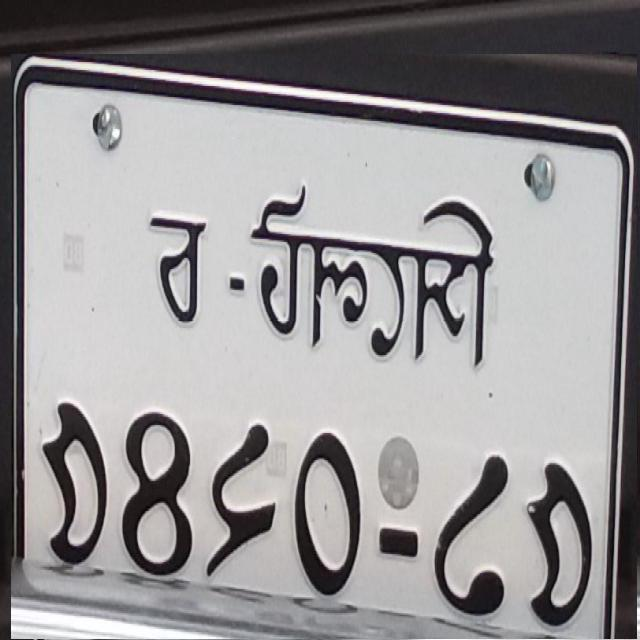cng: (152, 183, 399, 365)
numberplate: (11, 54, 637, 639)
